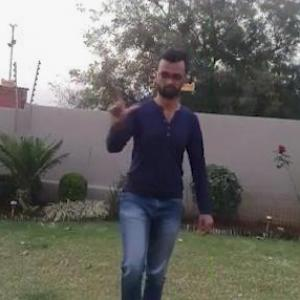land_hand: (104, 89, 139, 126)
